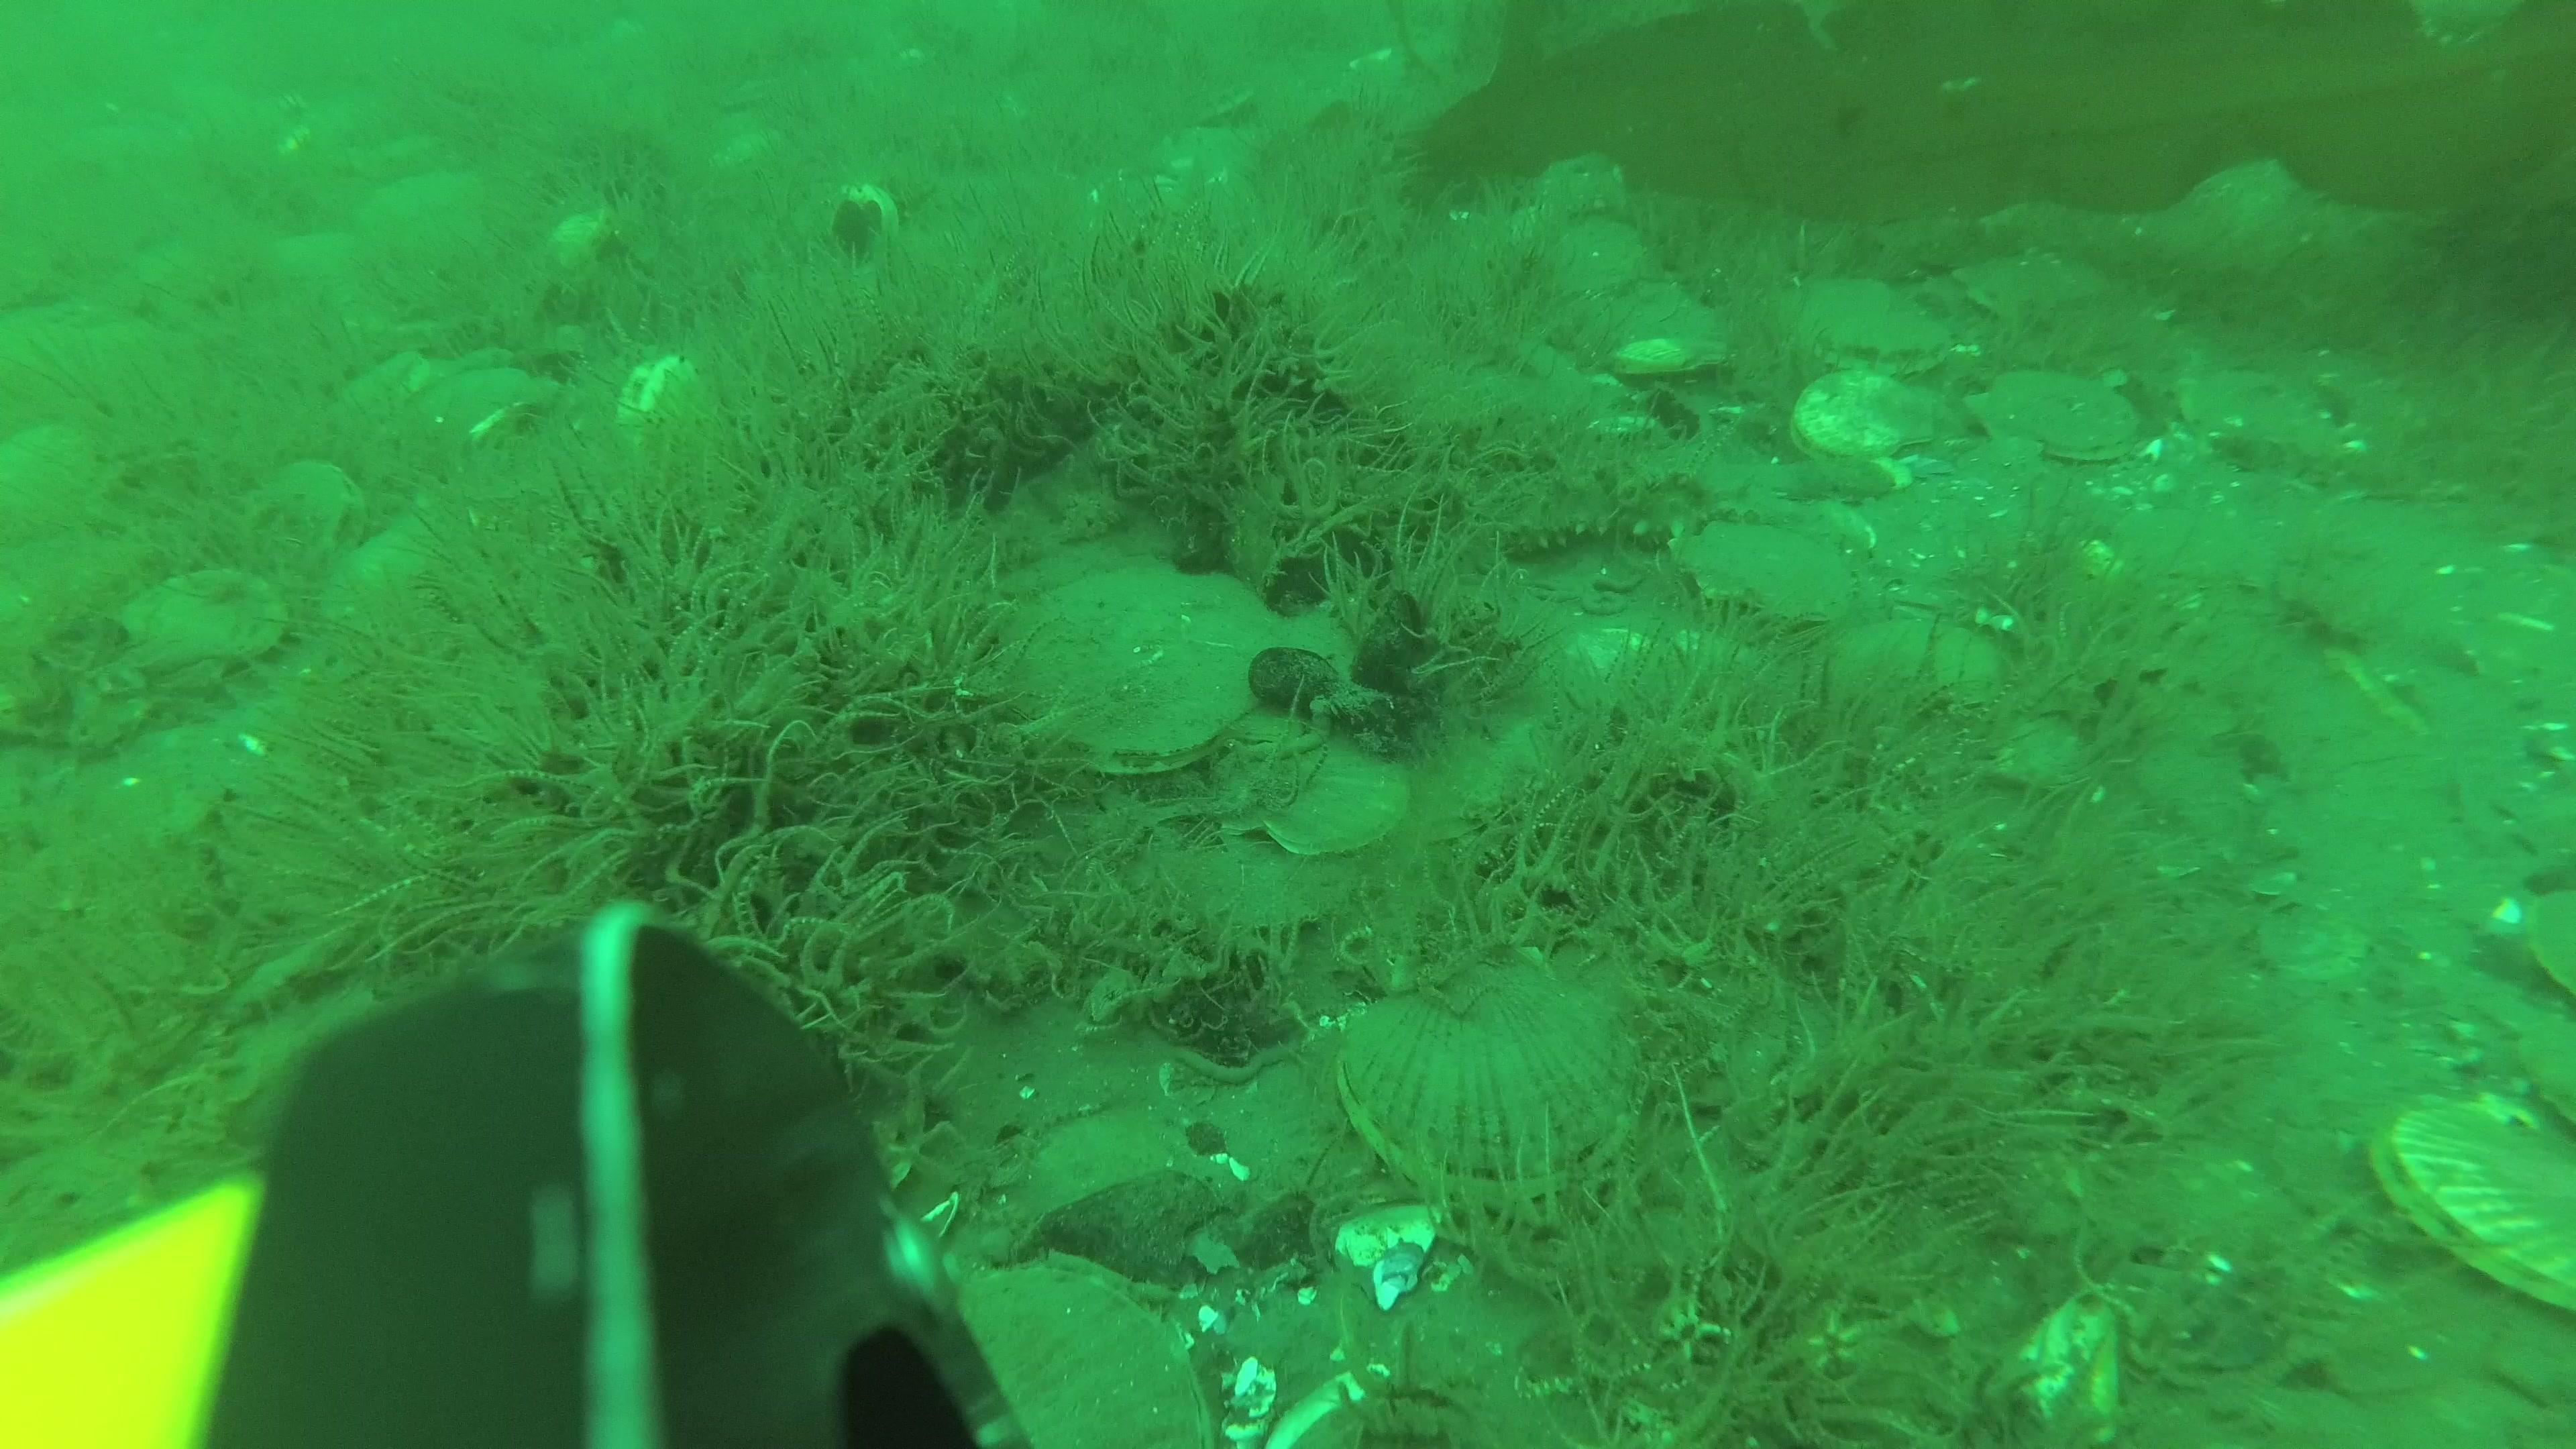holothurian: (1467, 462, 1711, 563)
scallop: (1005, 561, 1288, 791), (1348, 980, 1649, 1184), (2378, 1077, 2576, 1341), (954, 1261, 1224, 1449), (1205, 1040, 1412, 1235), (1019, 1102, 1233, 1272), (1806, 593, 2019, 734), (2288, 495, 2475, 644), (44, 731, 232, 874), (1200, 610, 1361, 755), (1177, 823, 1350, 947), (1237, 747, 1410, 863), (1872, 483, 2040, 594), (126, 564, 278, 676), (1684, 525, 1842, 628), (1801, 347, 1943, 455), (1794, 274, 1934, 380), (2189, 372, 2344, 465), (1985, 357, 2123, 460), (244, 460, 359, 566), (4, 419, 108, 531), (2266, 895, 2380, 987), (1532, 140, 1631, 230), (1559, 223, 1656, 299)
